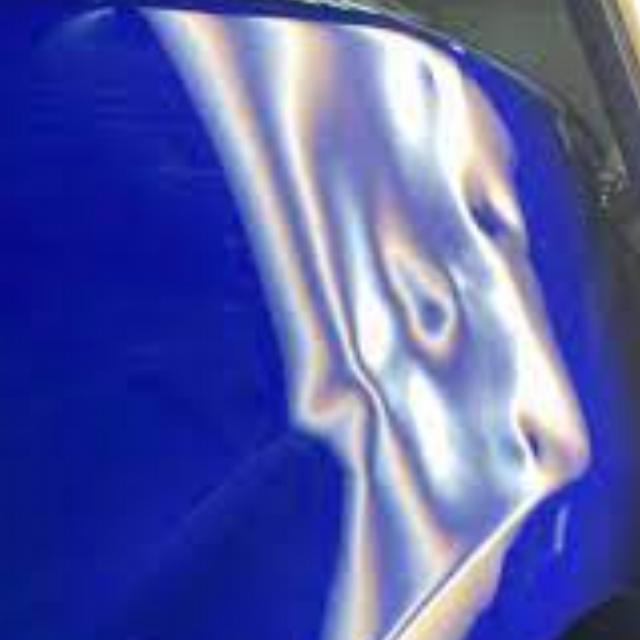dents: (437, 132, 556, 300), (496, 394, 610, 530), (367, 233, 446, 377)
